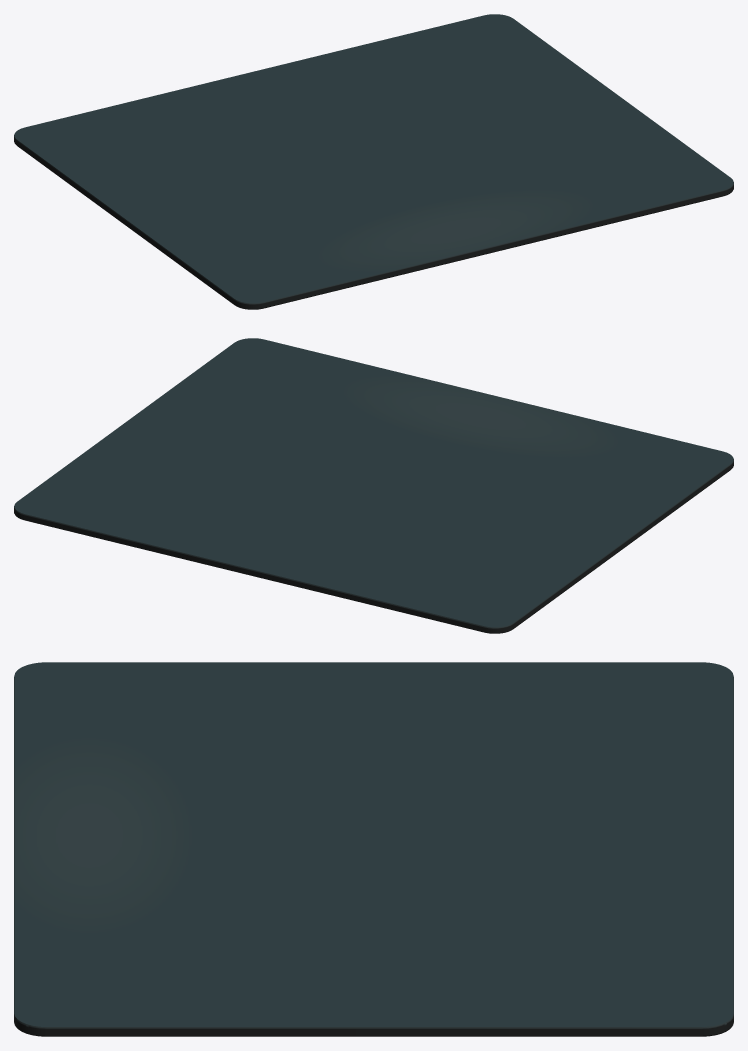
Rendered from MouseMat_LOD0.fbx.
3 renders of one model, top to bottom at view 1: azimuth 30°, elevation 25°; view 2: azimuth 150°, elevation 25°; view 3: azimuth 270°, elevation 25°, orthographic. The views are drawn at different scales.
Visible parts, largest first — view 1: Body_LOD0; view 2: Body_LOD0; view 3: Body_LOD0.
Part boxes in pixels (x1=…): Body_LOD0: x1=14, y1=14, x2=733, y2=309; Body_LOD0: x1=14, y1=338, x2=733, y2=633; Body_LOD0: x1=14, y1=662, x2=733, y2=1036.
Bounding box in the file's own units: 0.24 × 0.003 × 0.2.
